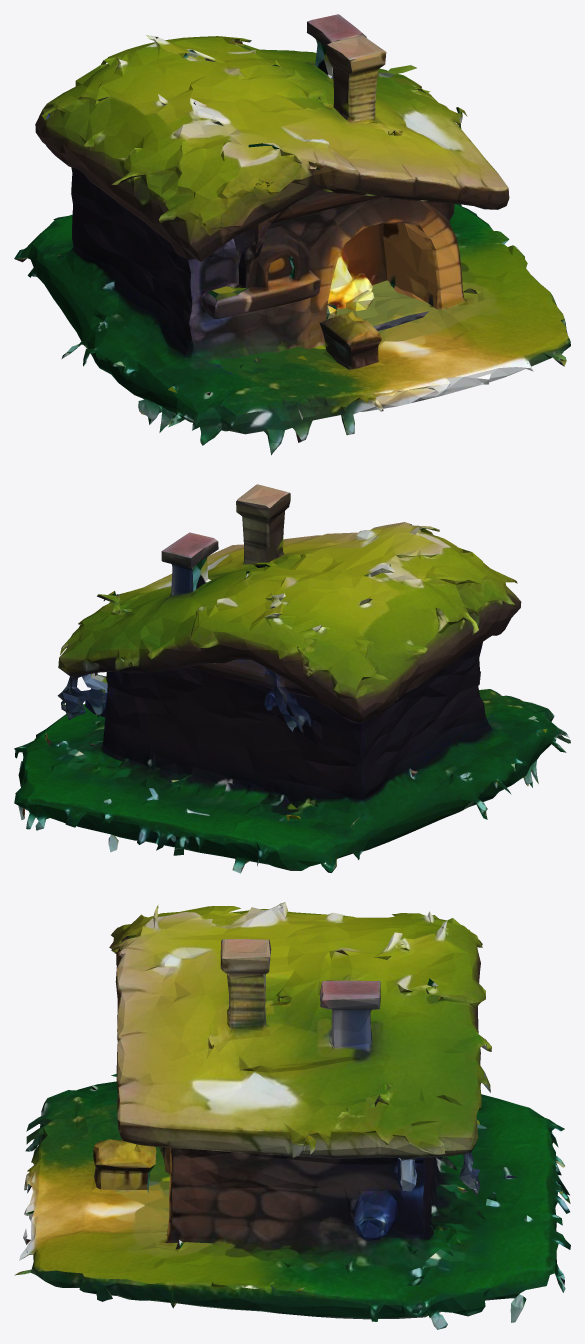
File: furnace.glb
The picture shows the model from 3 angles, top to bottom: view 1: azimuth 30°, elevation 25°; view 2: azimuth 150°, elevation 25°; view 3: azimuth 270°, elevation 25°; orthographic projection. The views are drawn at different scales.
Visible parts, largest first — view 1: tmpox8nz0t3.ply; view 2: tmpox8nz0t3.ply; view 3: tmpox8nz0t3.ply.
Part boxes in pixels (x1=…): tmpox8nz0t3.ply: x1=14, y1=14, x2=570, y2=455; tmpox8nz0t3.ply: x1=14, y1=484, x2=570, y2=873; tmpox8nz0t3.ply: x1=14, y1=902, x2=570, y2=1329.
Bounding box in the file's own units: 1.97 × 1.2 × 1.97.
Materials: 1 (1 with a texture image).
